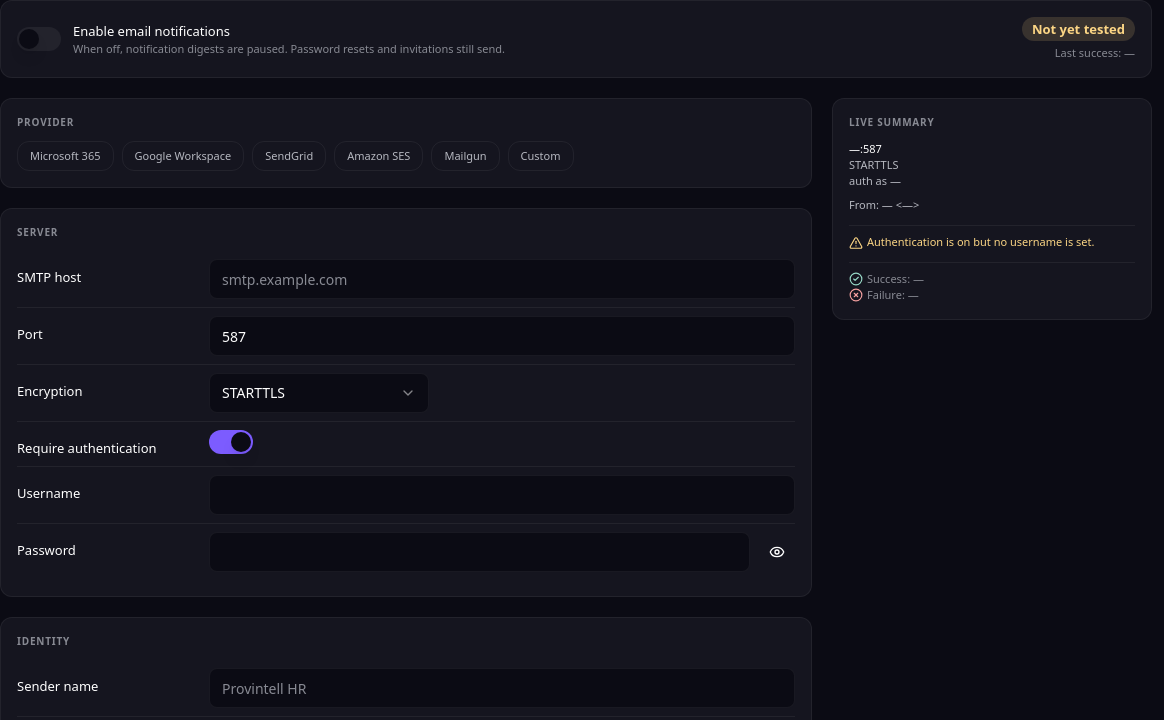
it: renders and blocks save when enabled without a host
Expected: the field labelled "SMTP host" is shown, [209,259,795,299]
Click the switch named "enable email notifications" at (39, 39), box [17,27,61,51]
(page scrolled)
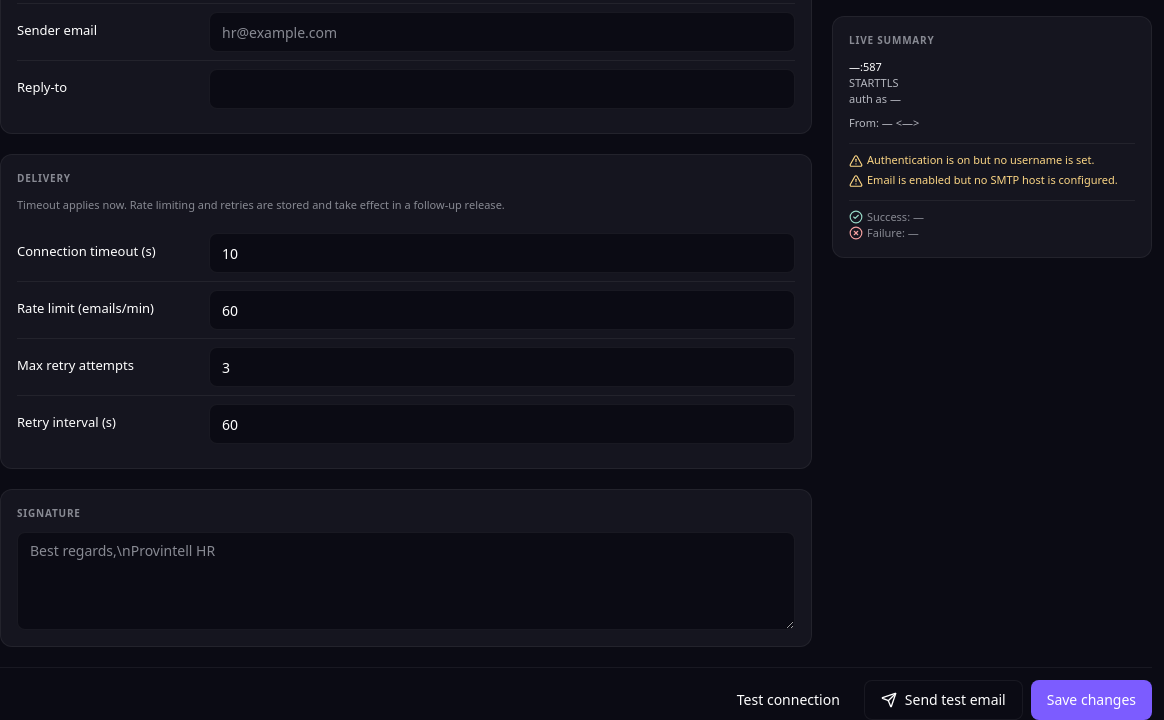
Click the button "Save changes" at (1091, 700), box [1031,680,1152,719]
(page scrolled)
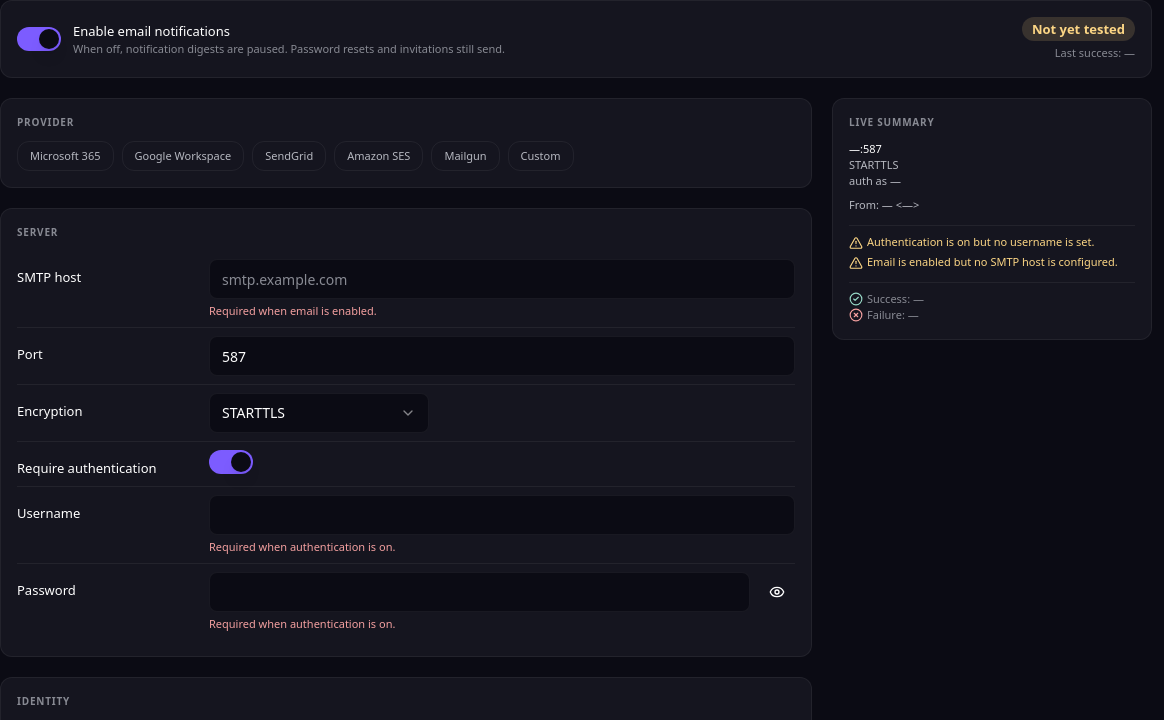
Expected: the text "Required when email is enabled." is shown, [209,303,377,318]
